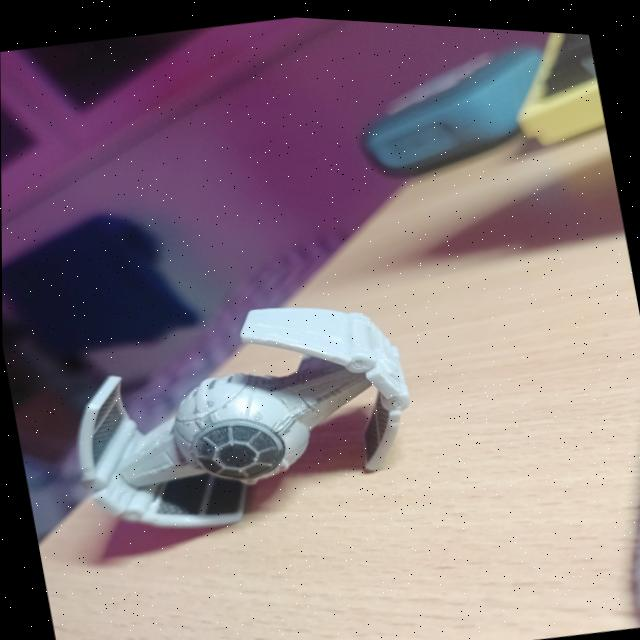tie fighter: (76, 304, 408, 525)
